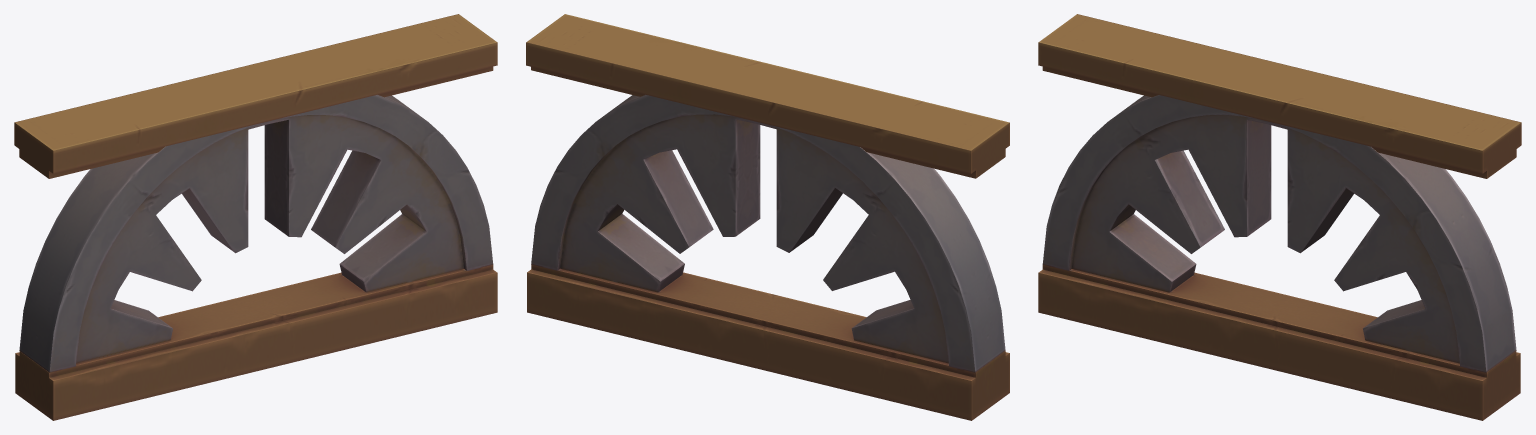
File: prop_BridgePiece.fbx
3 renders of one model, left to right at view 1: azimuth 30°, elevation 25°; view 2: azimuth 150°, elevation 25°; view 3: azimuth 330°, elevation 25°, orthographic.
Visible parts, largest first — view 1: prop_BridgePiece; view 2: prop_BridgePiece; view 3: prop_BridgePiece.
Part boxes in pixels (box(x1,y1,x2,y2)): prop_BridgePiece: box(14, 14, 497, 420); prop_BridgePiece: box(526, 14, 1009, 420); prop_BridgePiece: box(1038, 14, 1521, 420).
Bounding box in the file's own units: 150 × 87.29 × 22.74.
